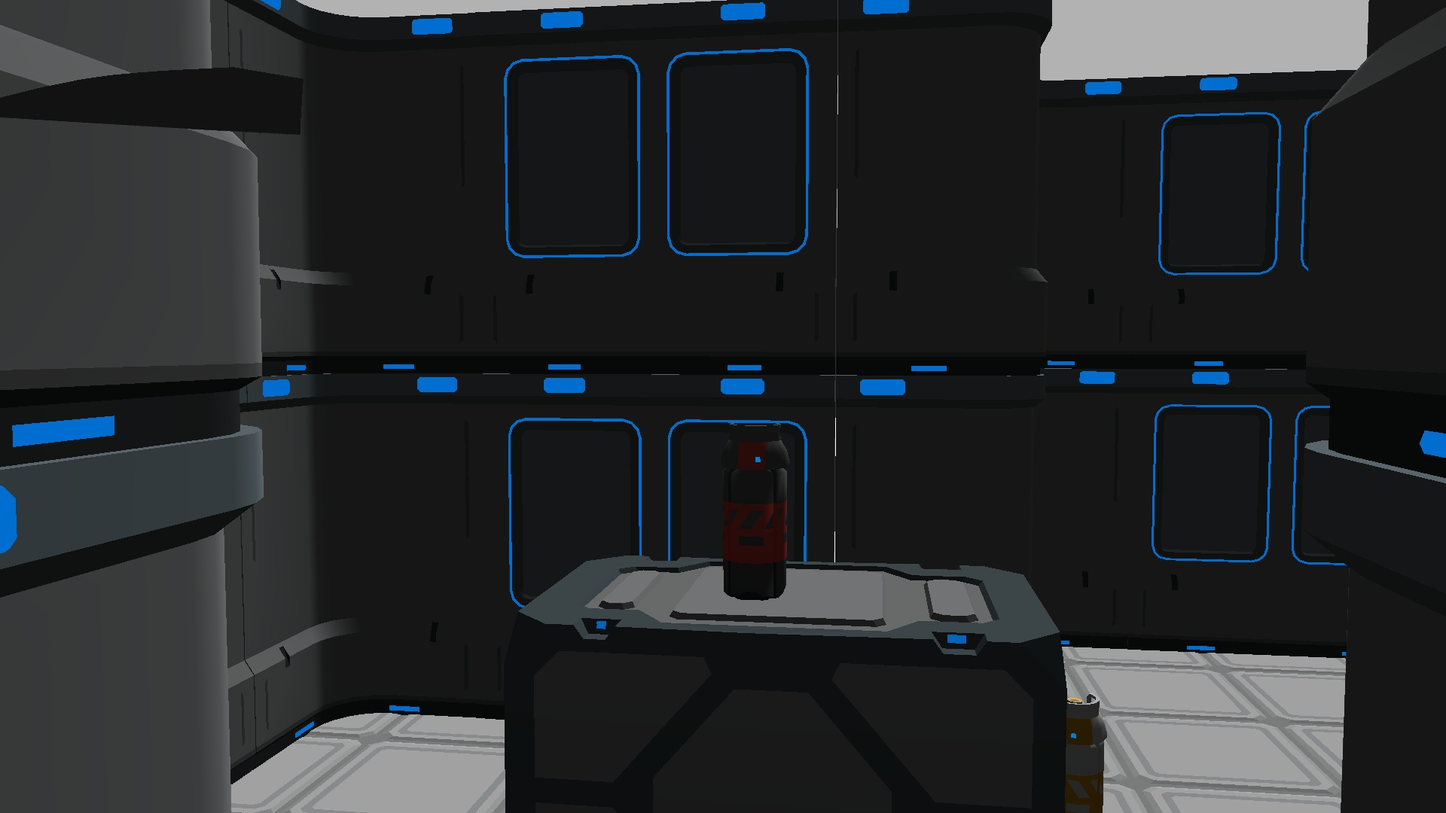red barrel: (722, 423, 787, 600)
yellow barrel: (1065, 694, 1107, 813)
